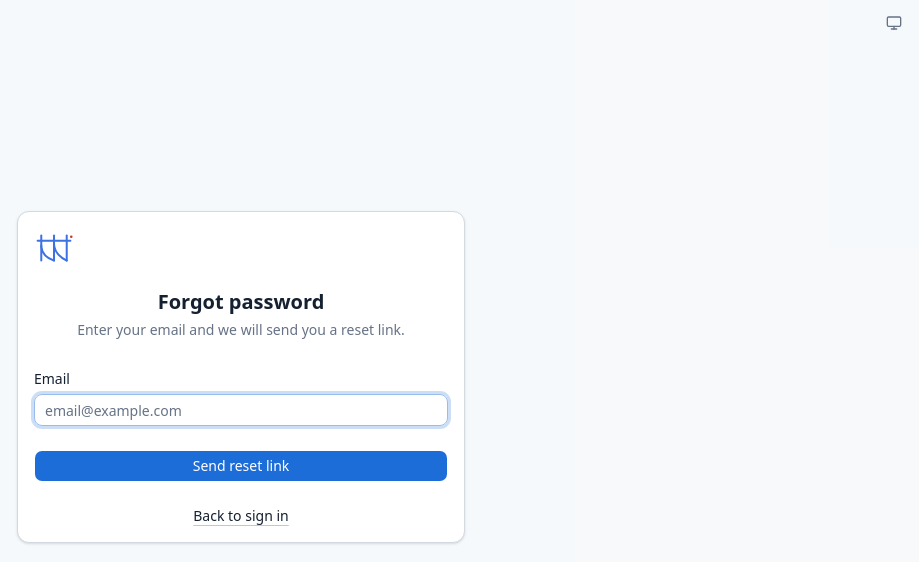
Test: account flow pages › forgot password shows the same confirmation for any address
In the field labelled "Email": point(241, 410) x1=34 y1=394 x2=448 y2=426, type "a@example.com"
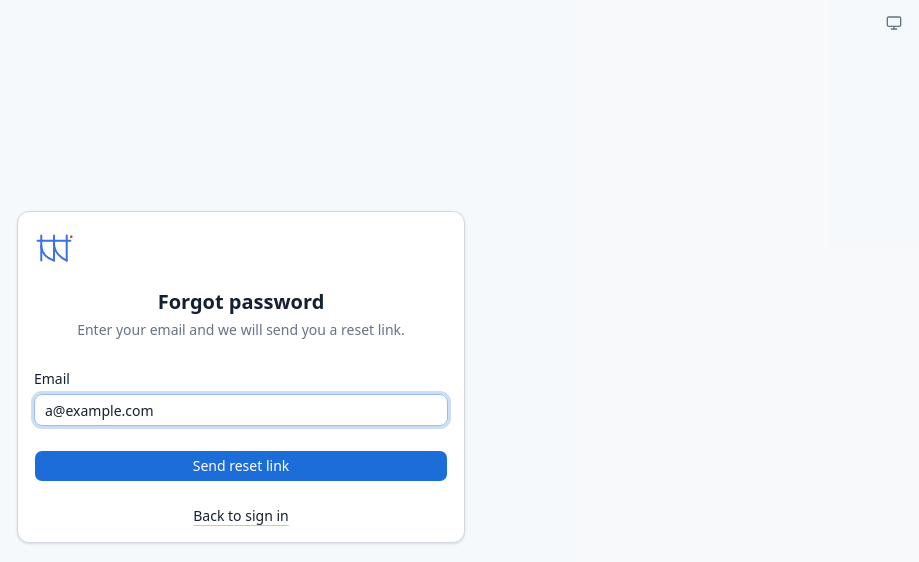
Click the button "Send reset link": point(241, 466) x1=34 y1=450 x2=448 y2=482
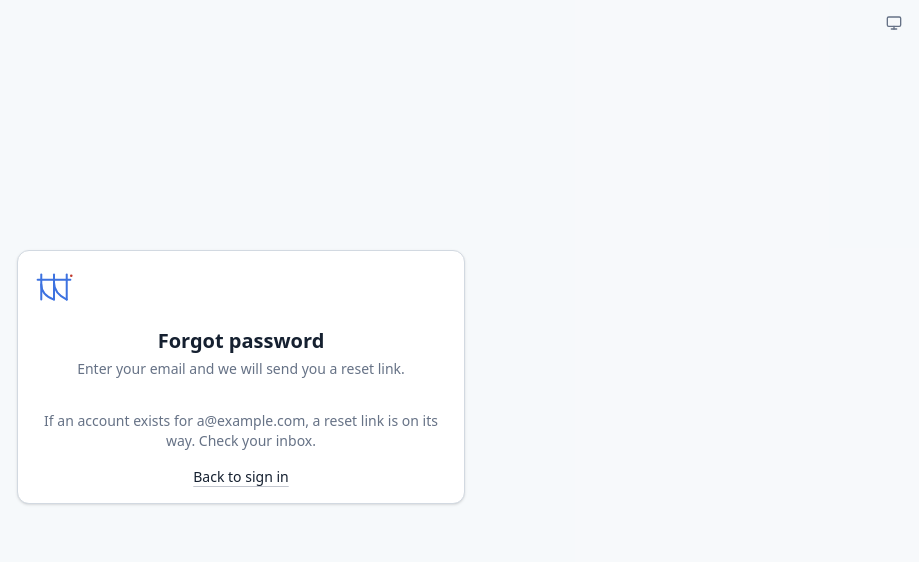
Now the message shows "If an account exists for a@example.com", box x1=44 y1=411 x2=438 y2=450
